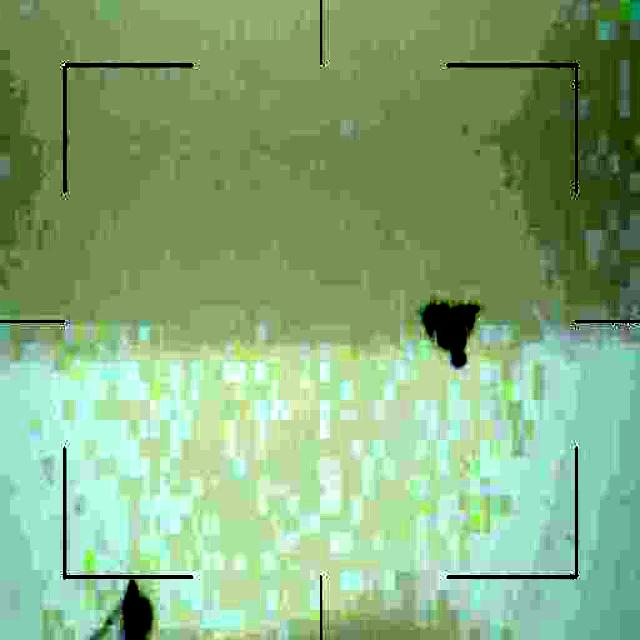bird: (420, 295, 485, 364)
